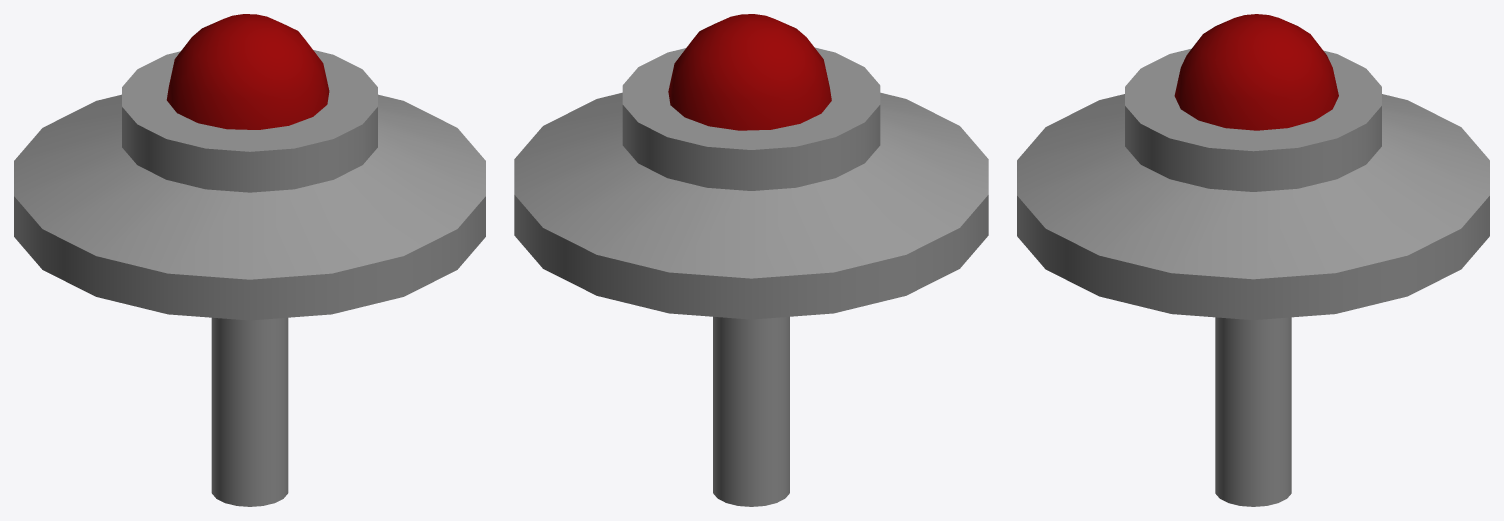
File: Sensor.FBX
3 renders of one model, left to right at view 1: azimuth 30°, elevation 25°; view 2: azimuth 150°, elevation 25°; view 3: azimuth 270°, elevation 25°, orthographic.
Visible parts, largest first — view 1: Cylinder001, Light; view 2: Cylinder001, Light; view 3: Cylinder001, Light.
Boxes of the visible parts, <box> form: Cylinder001: <box>14,50,485,506</box>; Light: <box>166,14,329,129</box>; Cylinder001: <box>514,47,988,506</box>; Light: <box>668,14,831,130</box>; Cylinder001: <box>1017,48,1489,506</box>; Light: <box>1174,14,1338,130</box>.
Bounding box in the file's own units: 0.5848 × 0.6302 × 0.5759.
